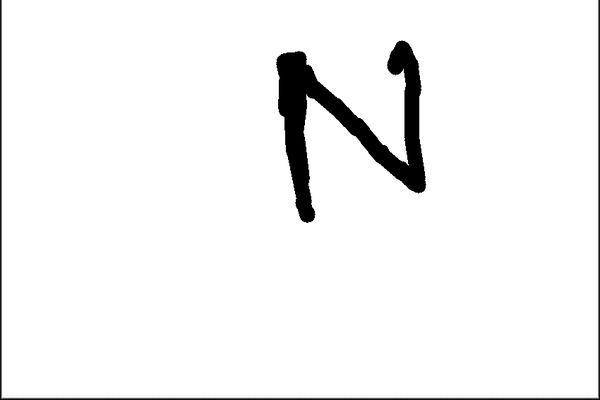N: (268, 34, 434, 228)
